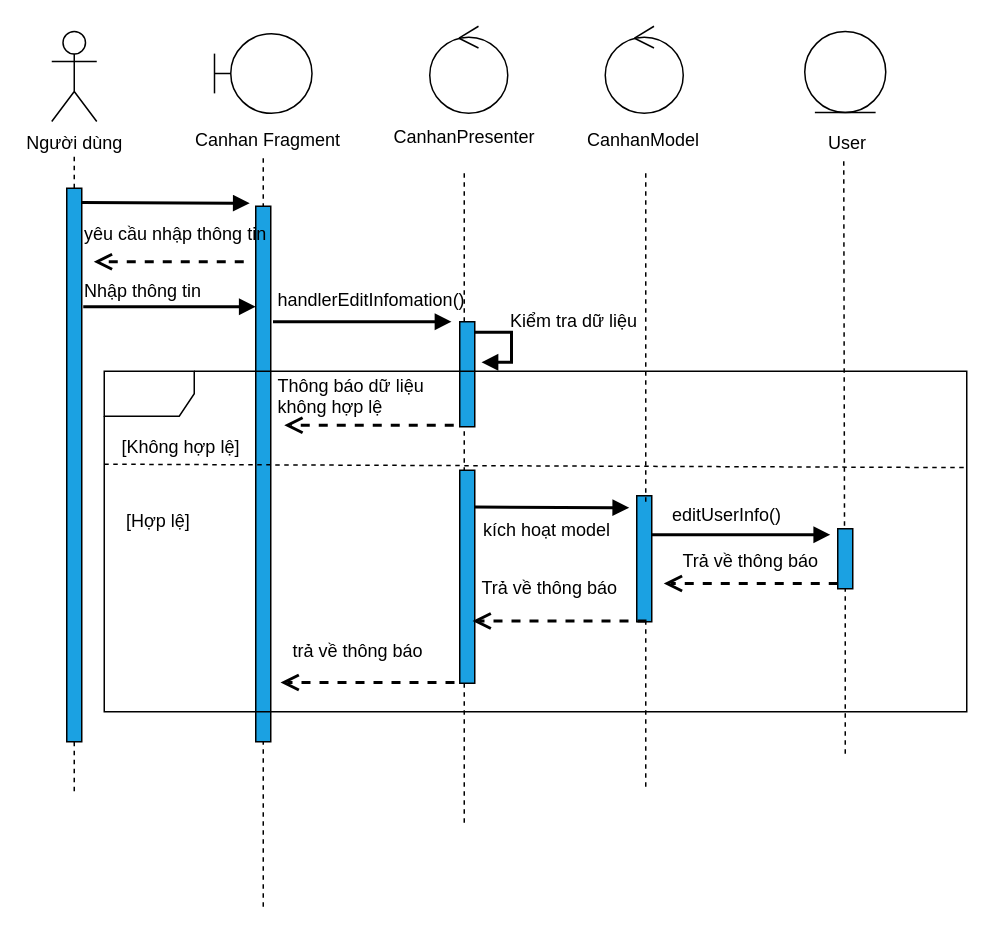
This 995x935 diagram has some shape labels left out. Each missing label, with the box of its shape:
alt: (103, 370, 967, 712)
Chọn chỉnh sửa thông tin: (79, 164, 304, 194)
